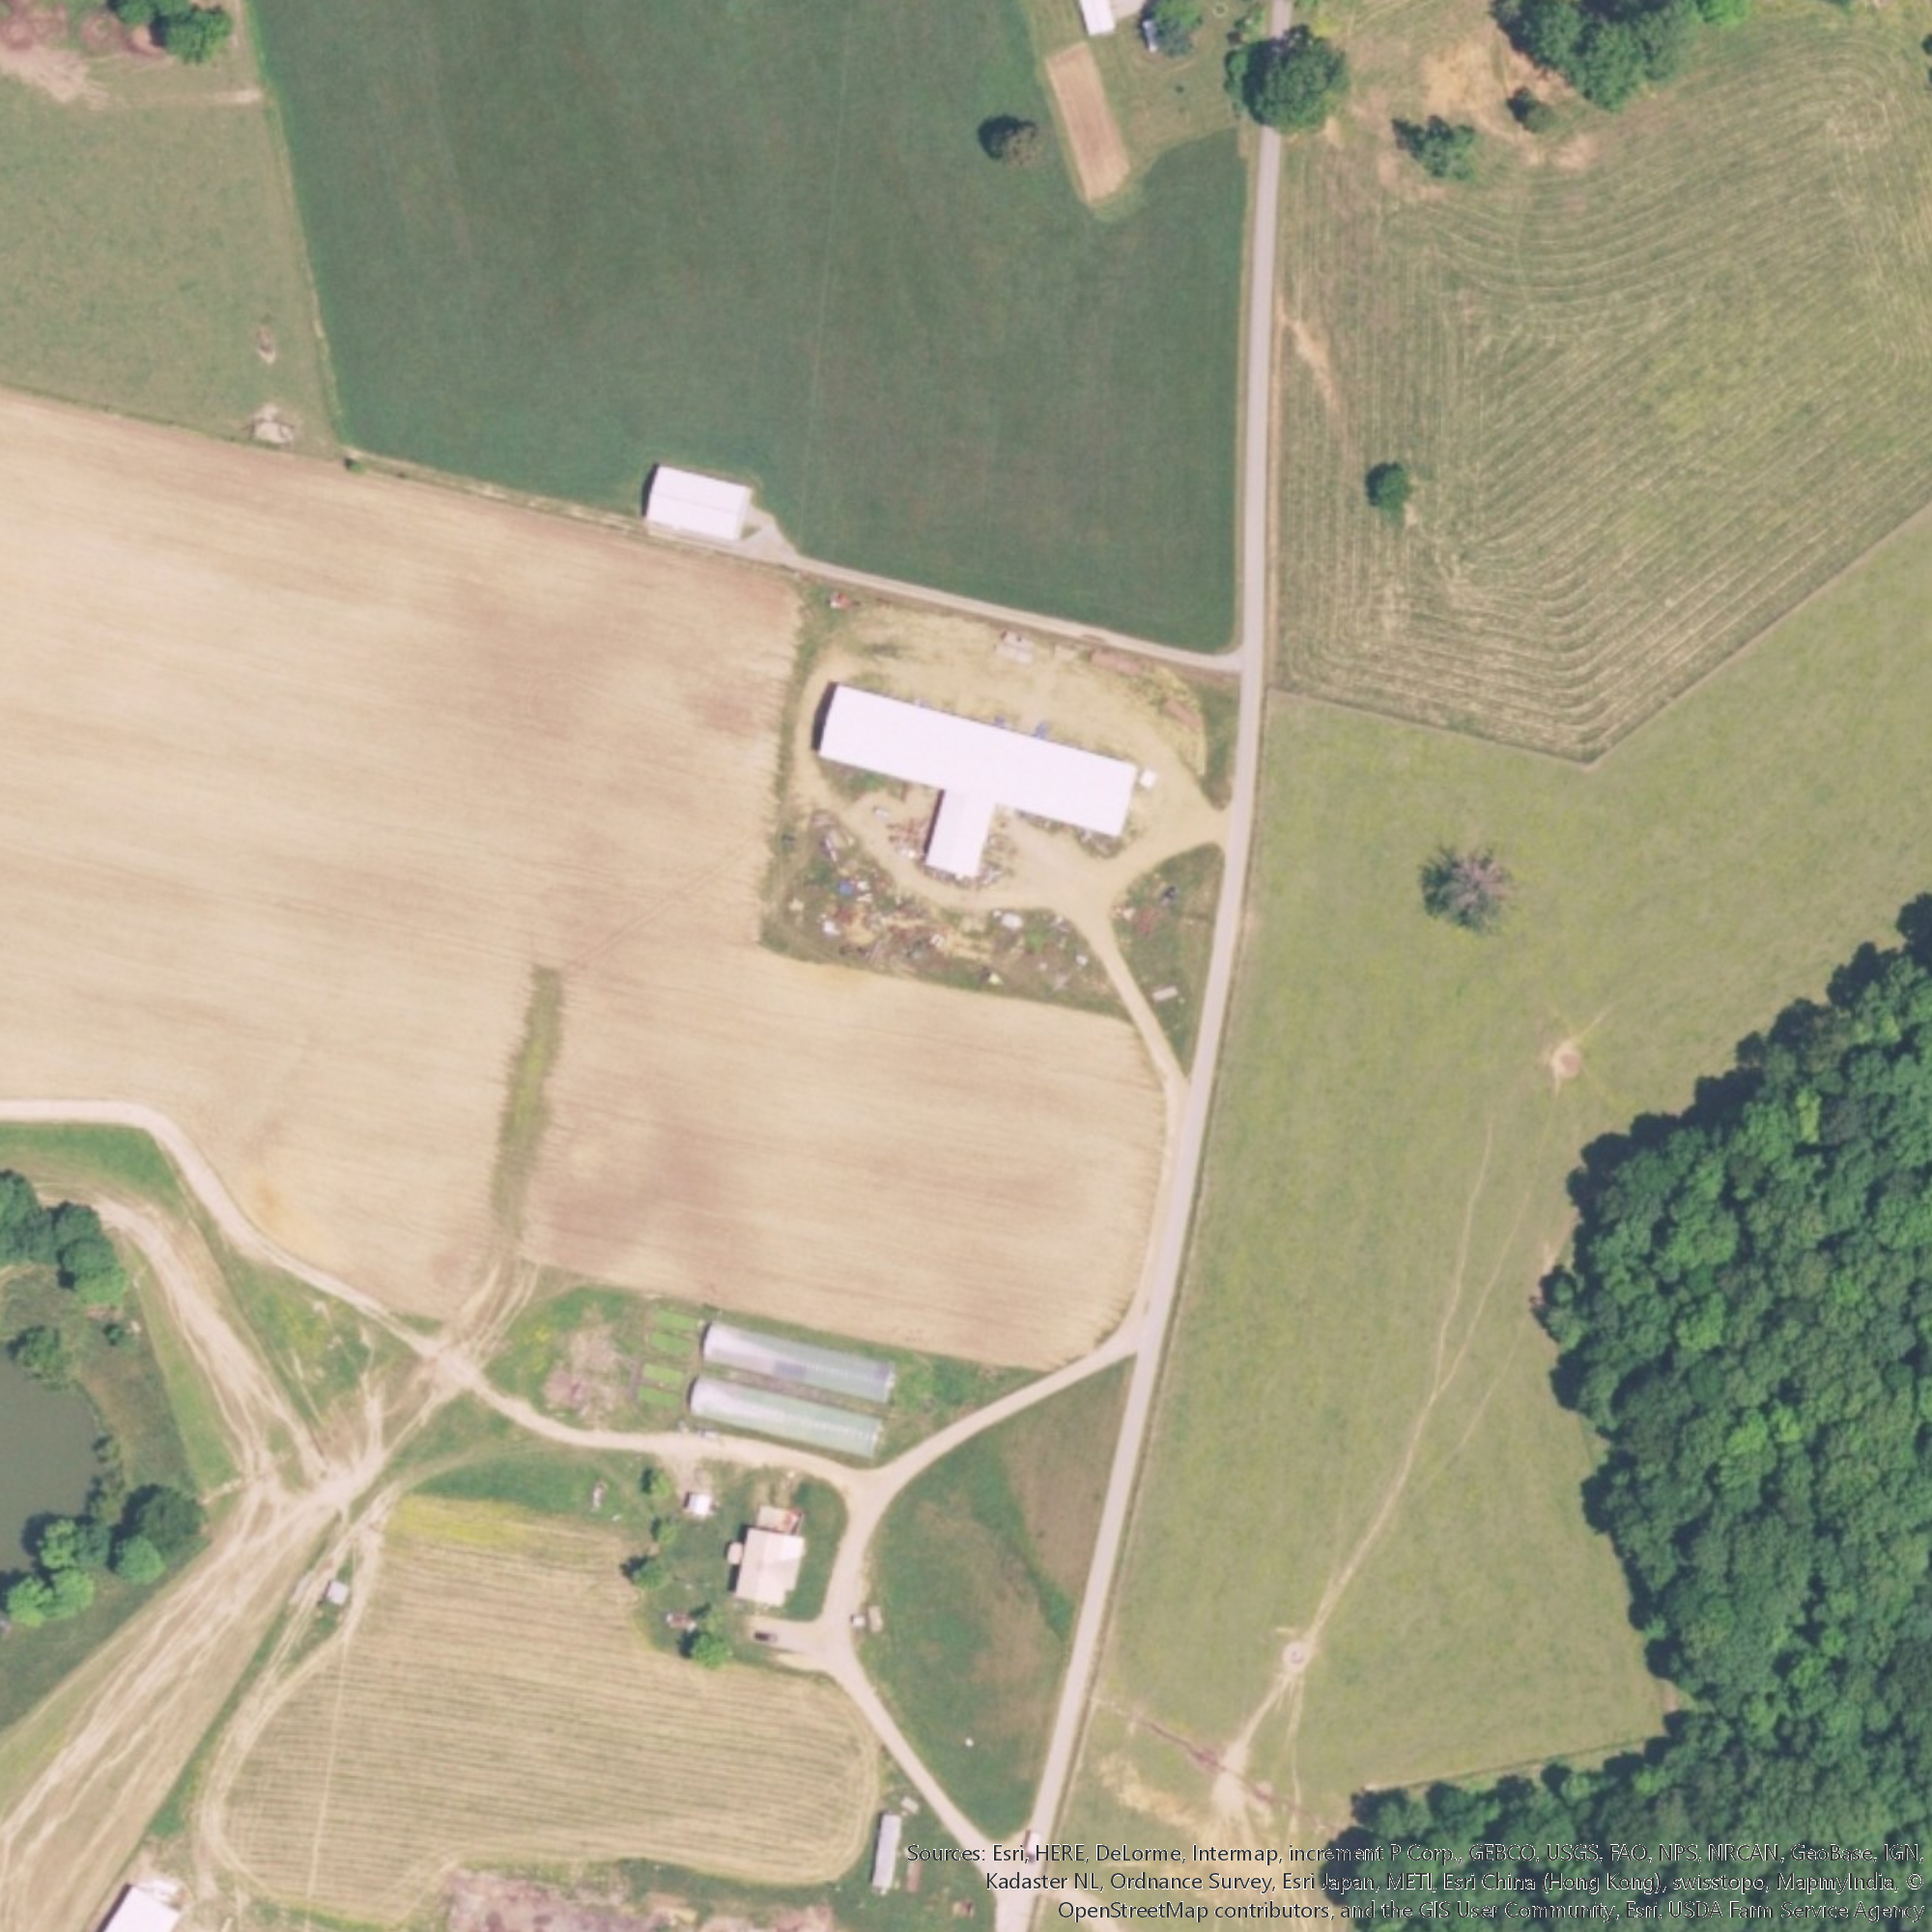cafo: (810, 681, 1143, 879), (692, 1373, 885, 1467), (701, 1320, 897, 1405)
